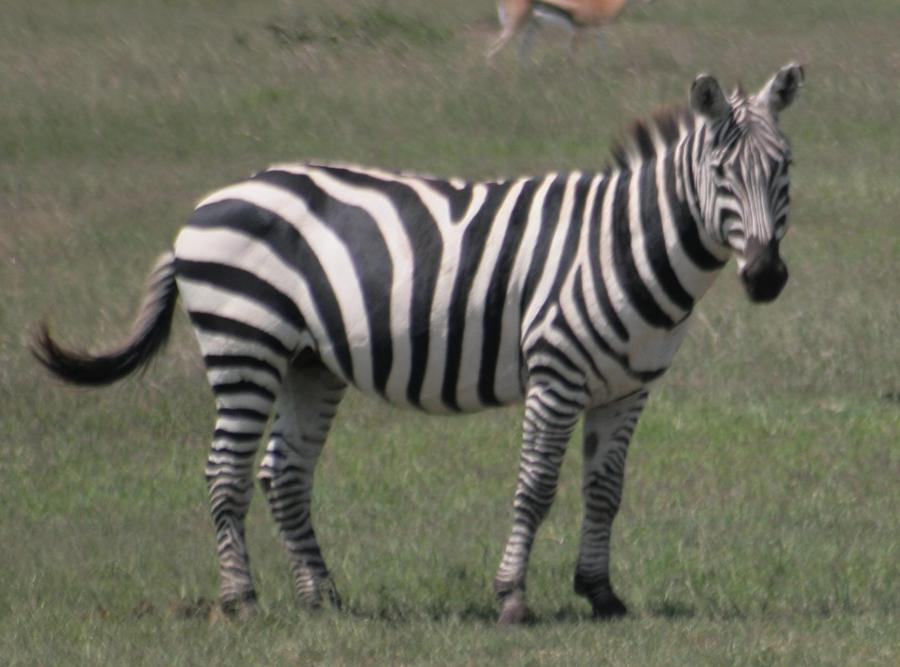zebra_plains: (149, 130, 661, 431)
